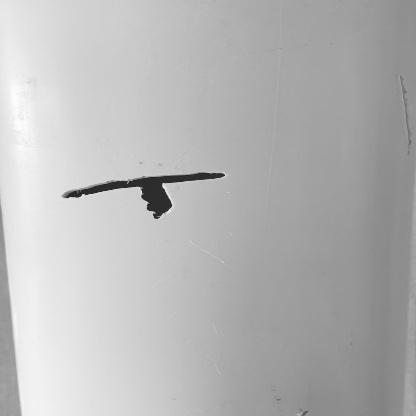fengxi: (57, 169, 232, 199)
kongdong: (139, 191, 174, 226)
sunshang: (399, 75, 416, 159)
